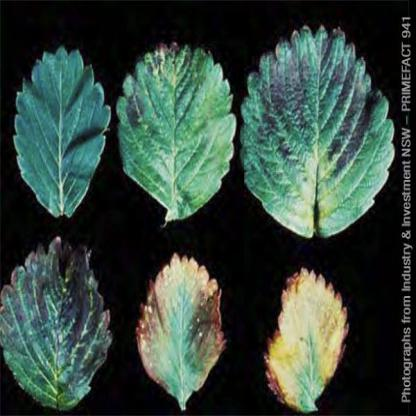Strawberry leaf: (241, 15, 396, 242), (112, 31, 239, 229), (12, 44, 110, 222)
